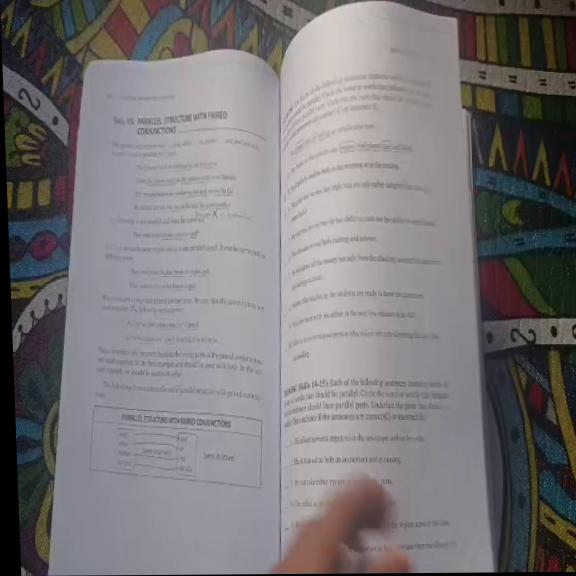Kertas: (84, 77, 271, 575), (263, 55, 475, 478)
